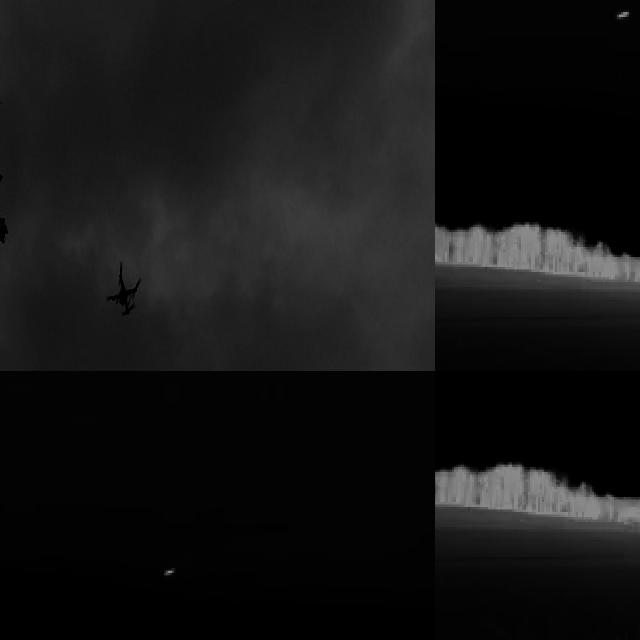1: (607, 3, 639, 36), (153, 560, 185, 590)
drone: (106, 264, 142, 319)
